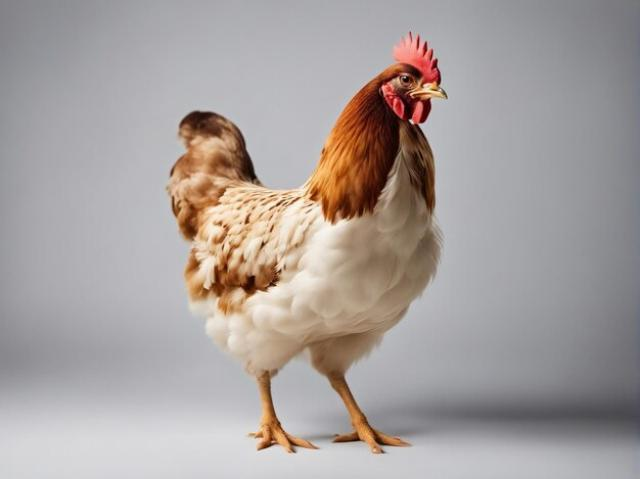Chicken: (169, 33, 450, 456)
